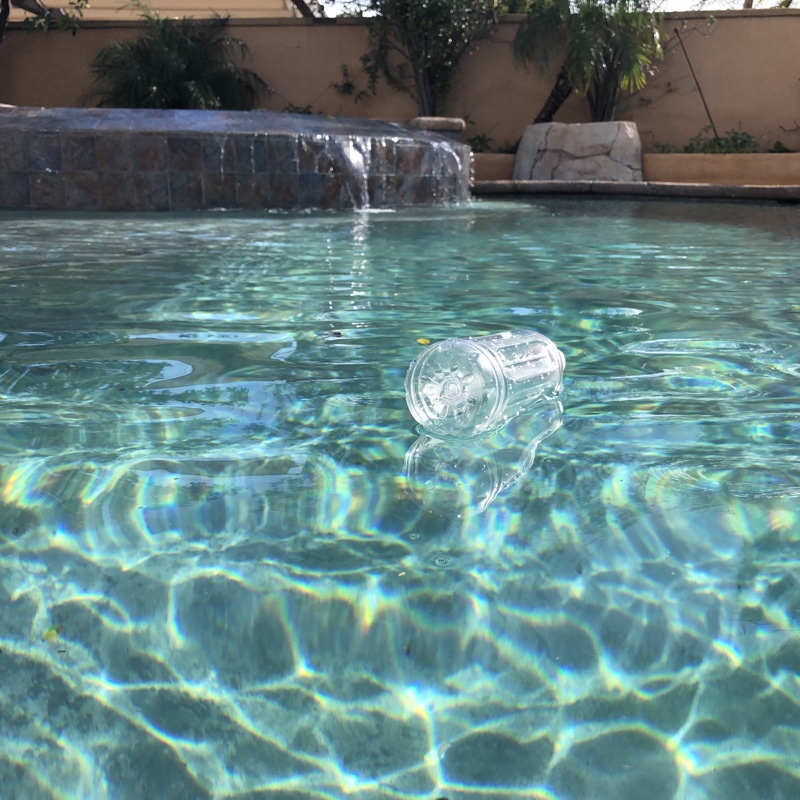Plastic Bottle: (401, 314, 569, 436)
